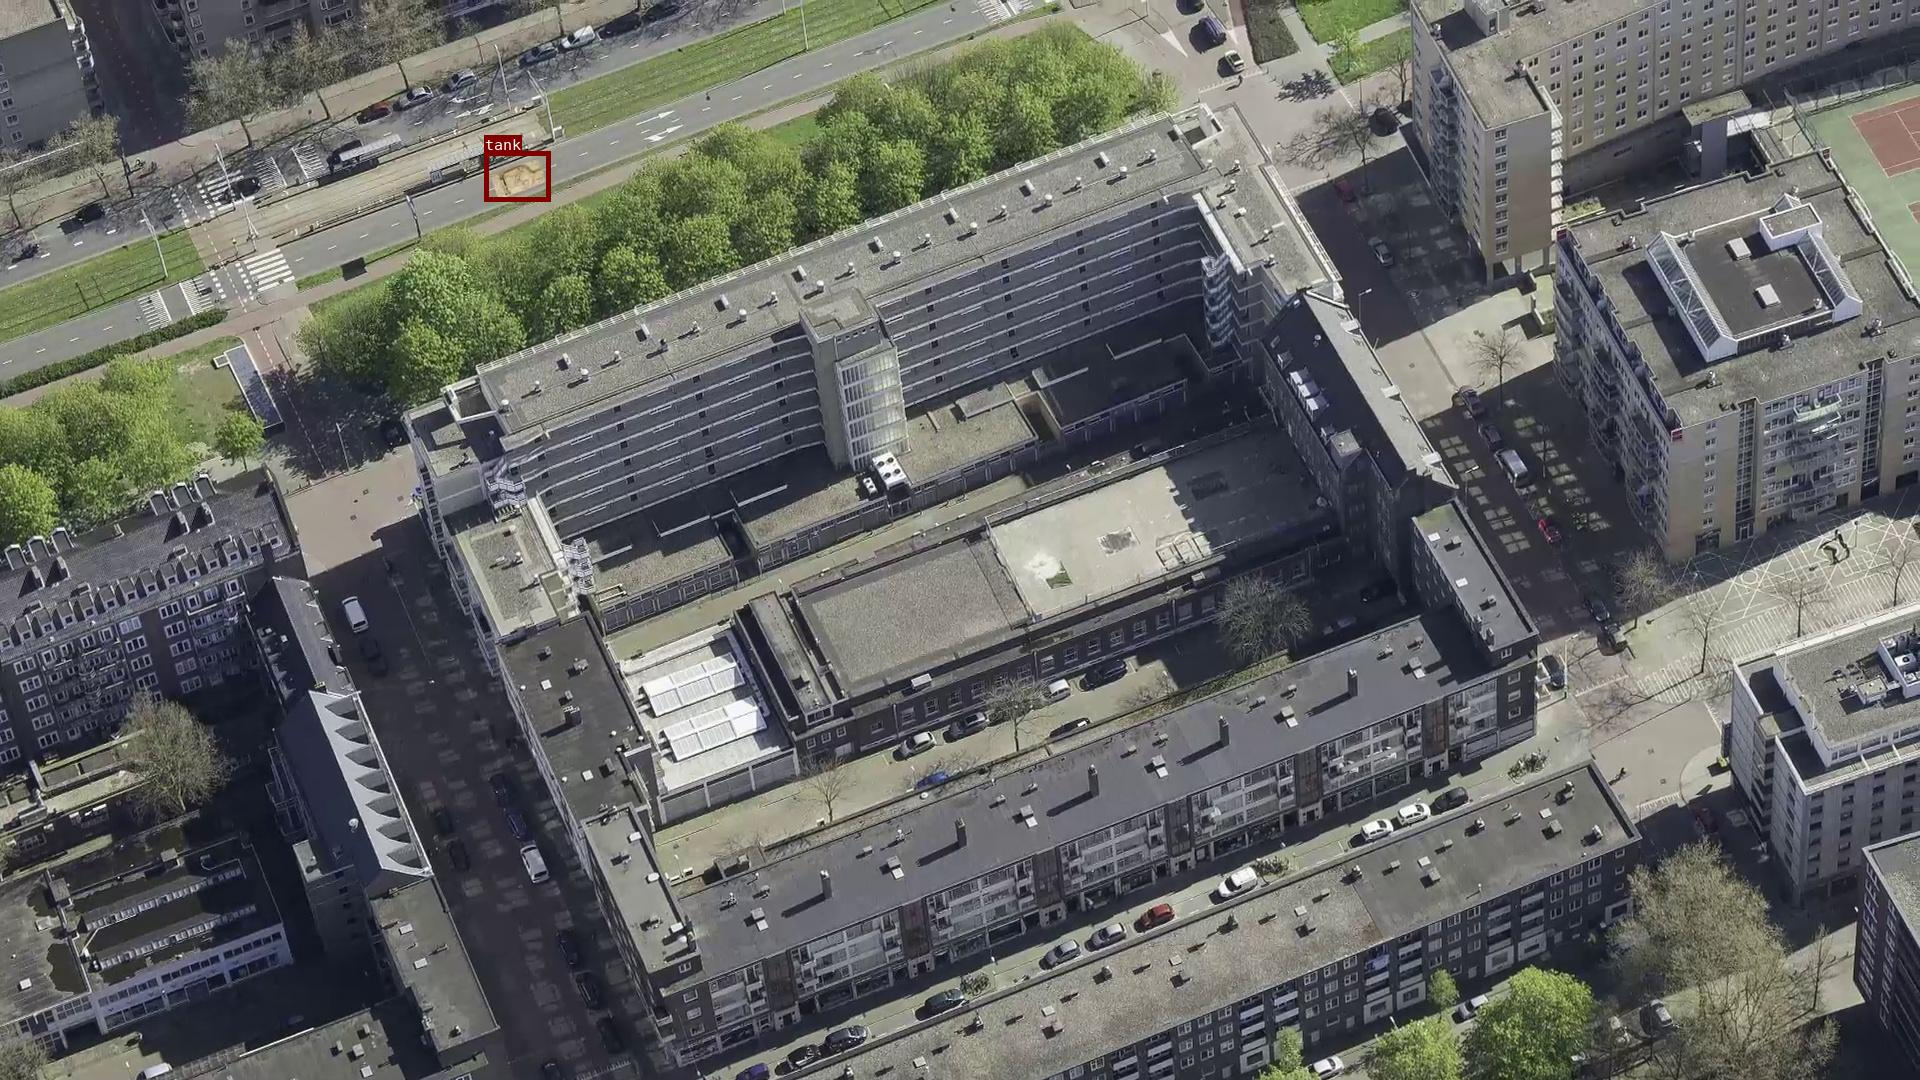tank: (484, 152, 550, 200)
